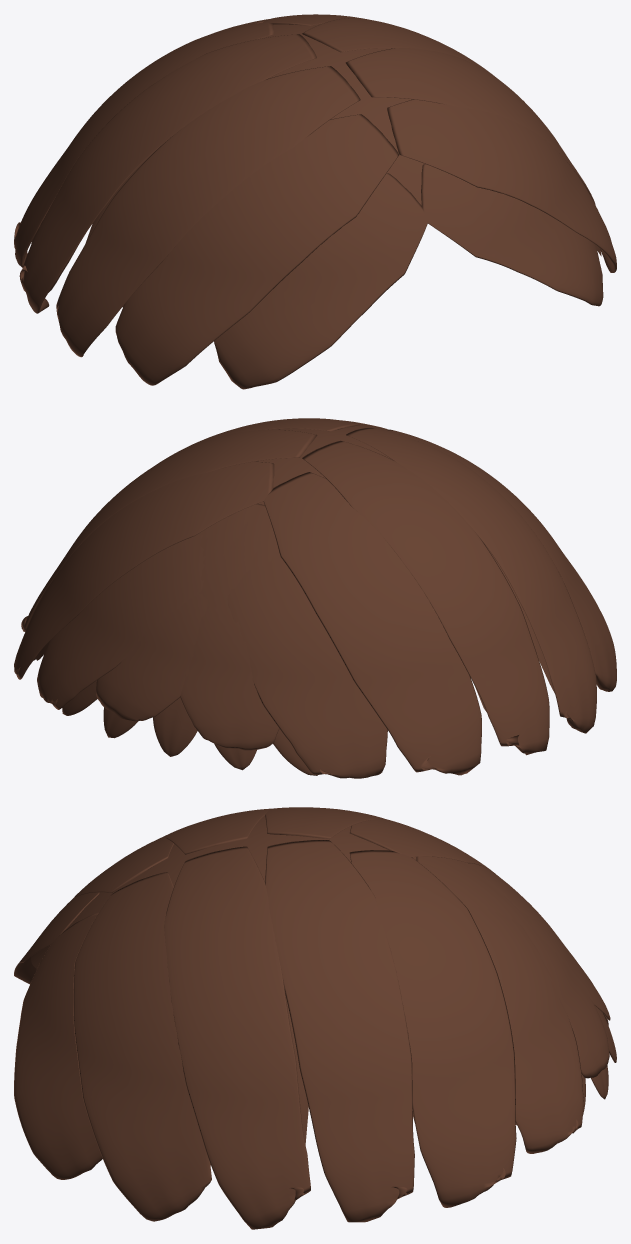
The model's file is Masculine-Masculine-middle-part-cap261-hair-40cb142d.glb.
3 renders of one model, top to bottom at view 1: azimuth 30°, elevation 25°; view 2: azimuth 150°, elevation 25°; view 3: azimuth 270°, elevation 25°, orthographic. The views are drawn at different scales.
Parts seen in each view (by area): view 1: 226 hair / Hair260 / layered middle-part; view 2: 226 hair / Hair260 / layered middle-part; view 3: 226 hair / Hair260 / layered middle-part.
Part boxes in pixels (x1=…): 226 hair / Hair260 / layered middle-part: x1=14, y1=14, x2=616, y2=389; 226 hair / Hair260 / layered middle-part: x1=14, y1=418, x2=616, y2=778; 226 hair / Hair260 / layered middle-part: x1=14, y1=807, x2=616, y2=1229.
Bounding box in the file's own units: 0.7928 × 0.3486 × 0.7278.
